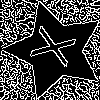X: (30, 25, 86, 72)
